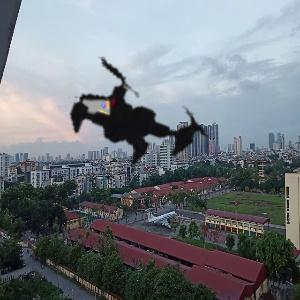drone: (36, 9, 244, 217)
